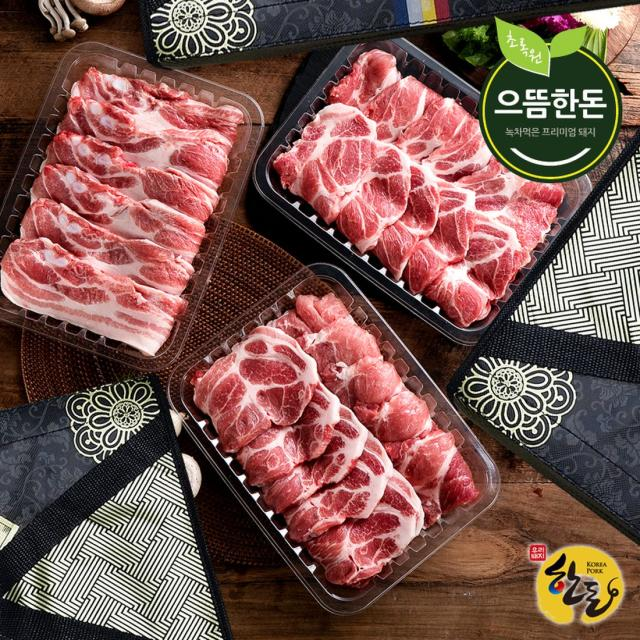pork: (140, 254, 501, 592), (259, 19, 589, 320), (10, 37, 248, 349)
